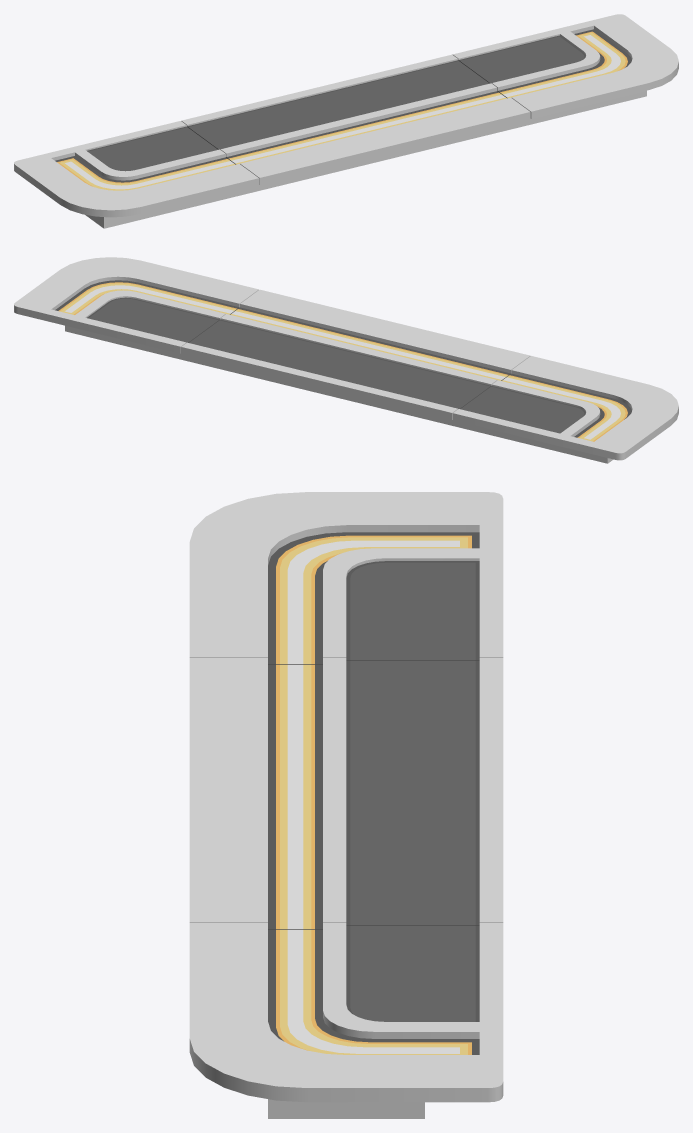
Rendered from MMo_C_001_LT_d_18x4.fbx.
3 views of the same model, one above another, from view 1: azimuth 30°, elevation 25°; view 2: azimuth 150°, elevation 25°; view 3: azimuth 270°, elevation 25° (orthographic). The views are drawn at different scales.
Parts seen in each view (by area): view 1: MMo_C_001_LT_d_18x4; view 2: MMo_C_001_LT_d_18x4; view 3: MMo_C_001_LT_d_18x4.
Boxes of the visible parts, x1,y1,x2,y2 form: MMo_C_001_LT_d_18x4: (14, 14, 678, 228); MMo_C_001_LT_d_18x4: (14, 257, 678, 463); MMo_C_001_LT_d_18x4: (189, 492, 503, 1118).
Size of the model in its own units: 18 by 0.9 by 4.
